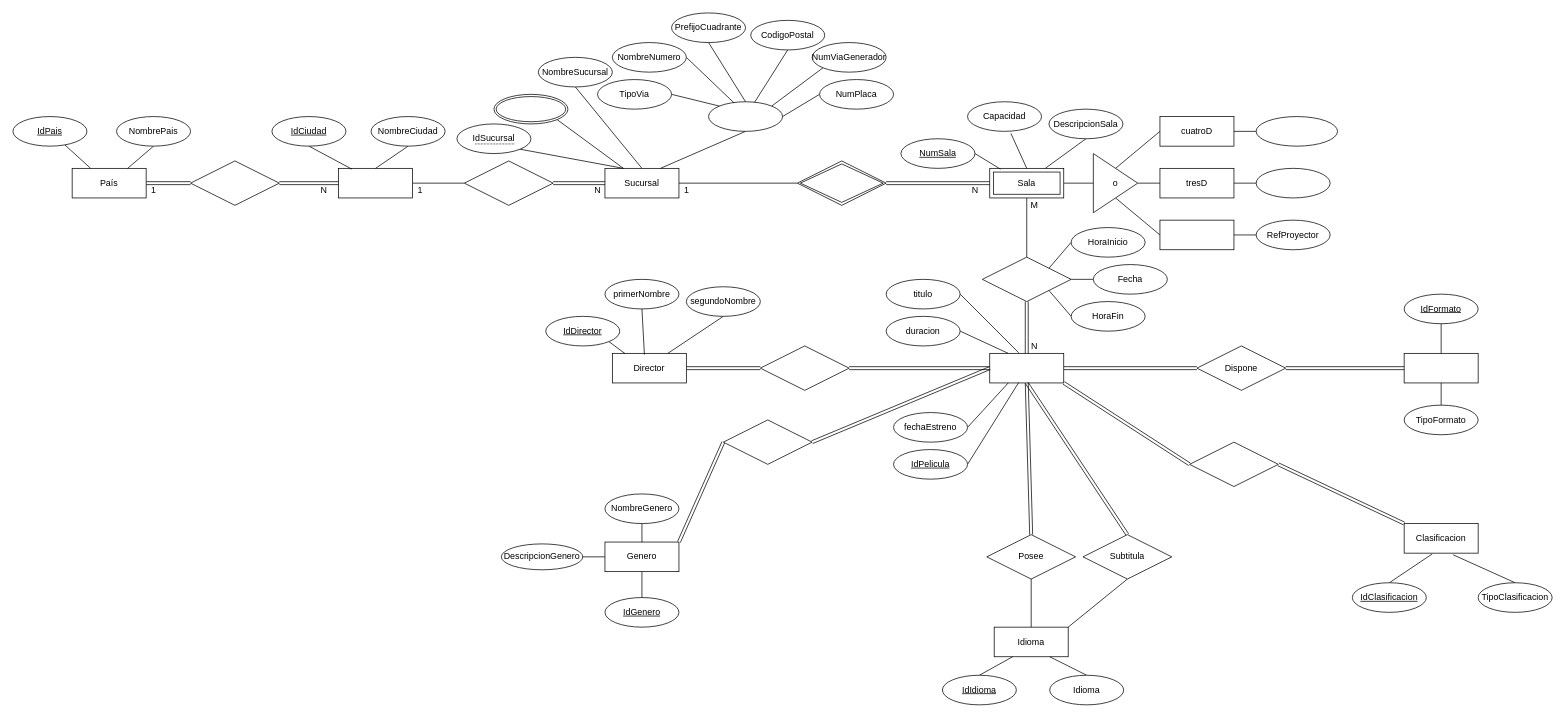
Some shapes in this 1565 by 718 pixel diagram are drawn without their labels. The shapes that lost their labels are listed below. From the top down, each one's centre as x and y in pixels, then its label:
At (530,109): "Telefono".
At (745,116): "Direccion".
At (1296,131): "ResolucionPantalla".
At (234,182): "Contiene".
At (375,183): "Ciudad".
At (508,182): "Tener".
At (841,182): "Vincular".
At (1292,183): "NumGafas".
At (1196,234): "dosD".
At (1026,279): "Programacion".
At (804,367): "Hace".
At (1026,368): "Pelicula".
At (1440,368): "Formato".
At (767,441): "Asocia".
At (1233,464): "Presenta".
